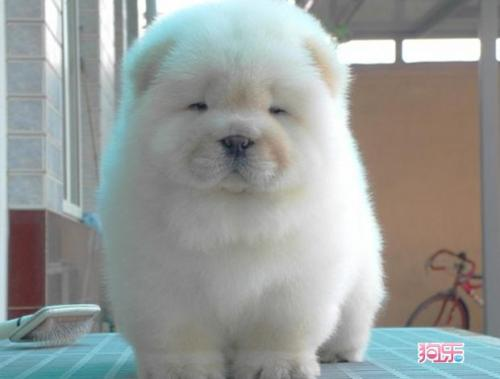dog: (119, 6, 357, 210)
